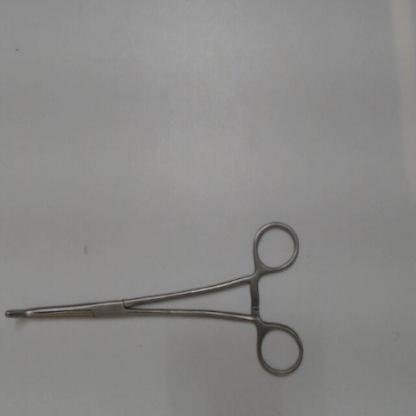Lahey Forceps: (2, 213, 309, 384)
